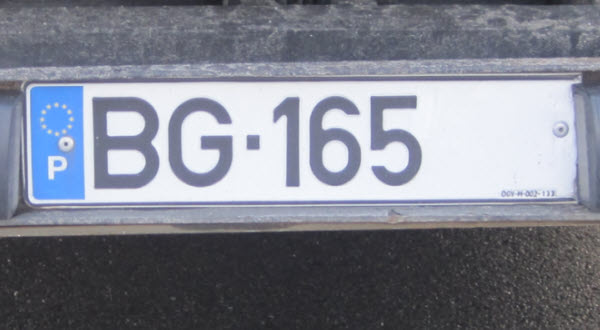license_plate: (23, 79, 575, 203)
